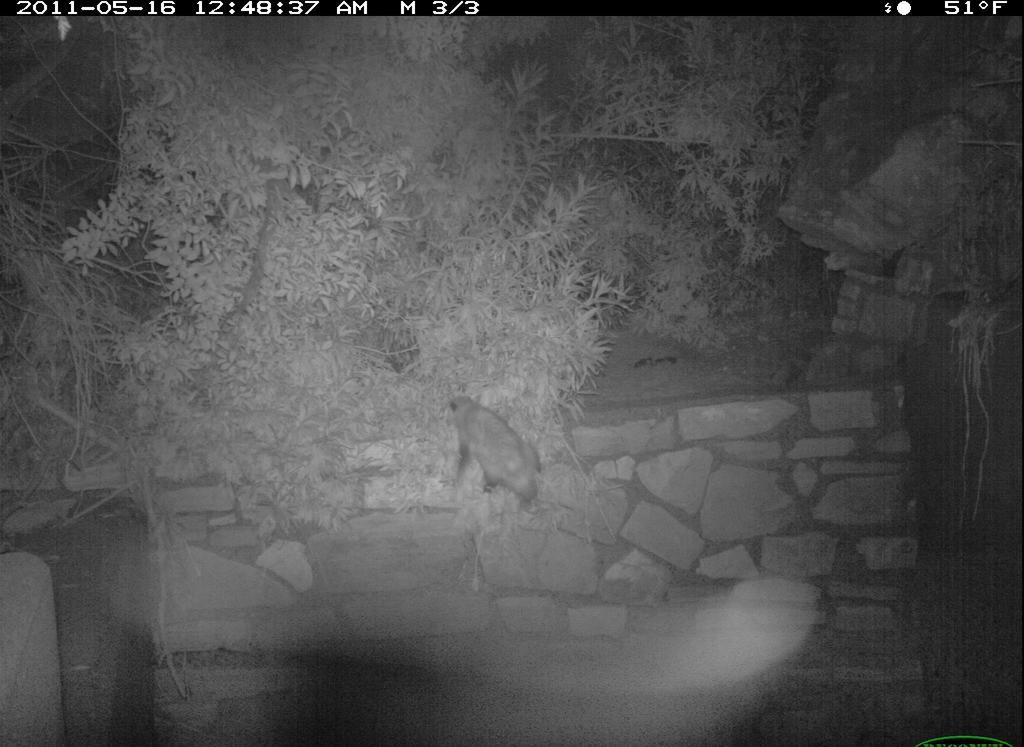opossum: (441, 385, 553, 510)
